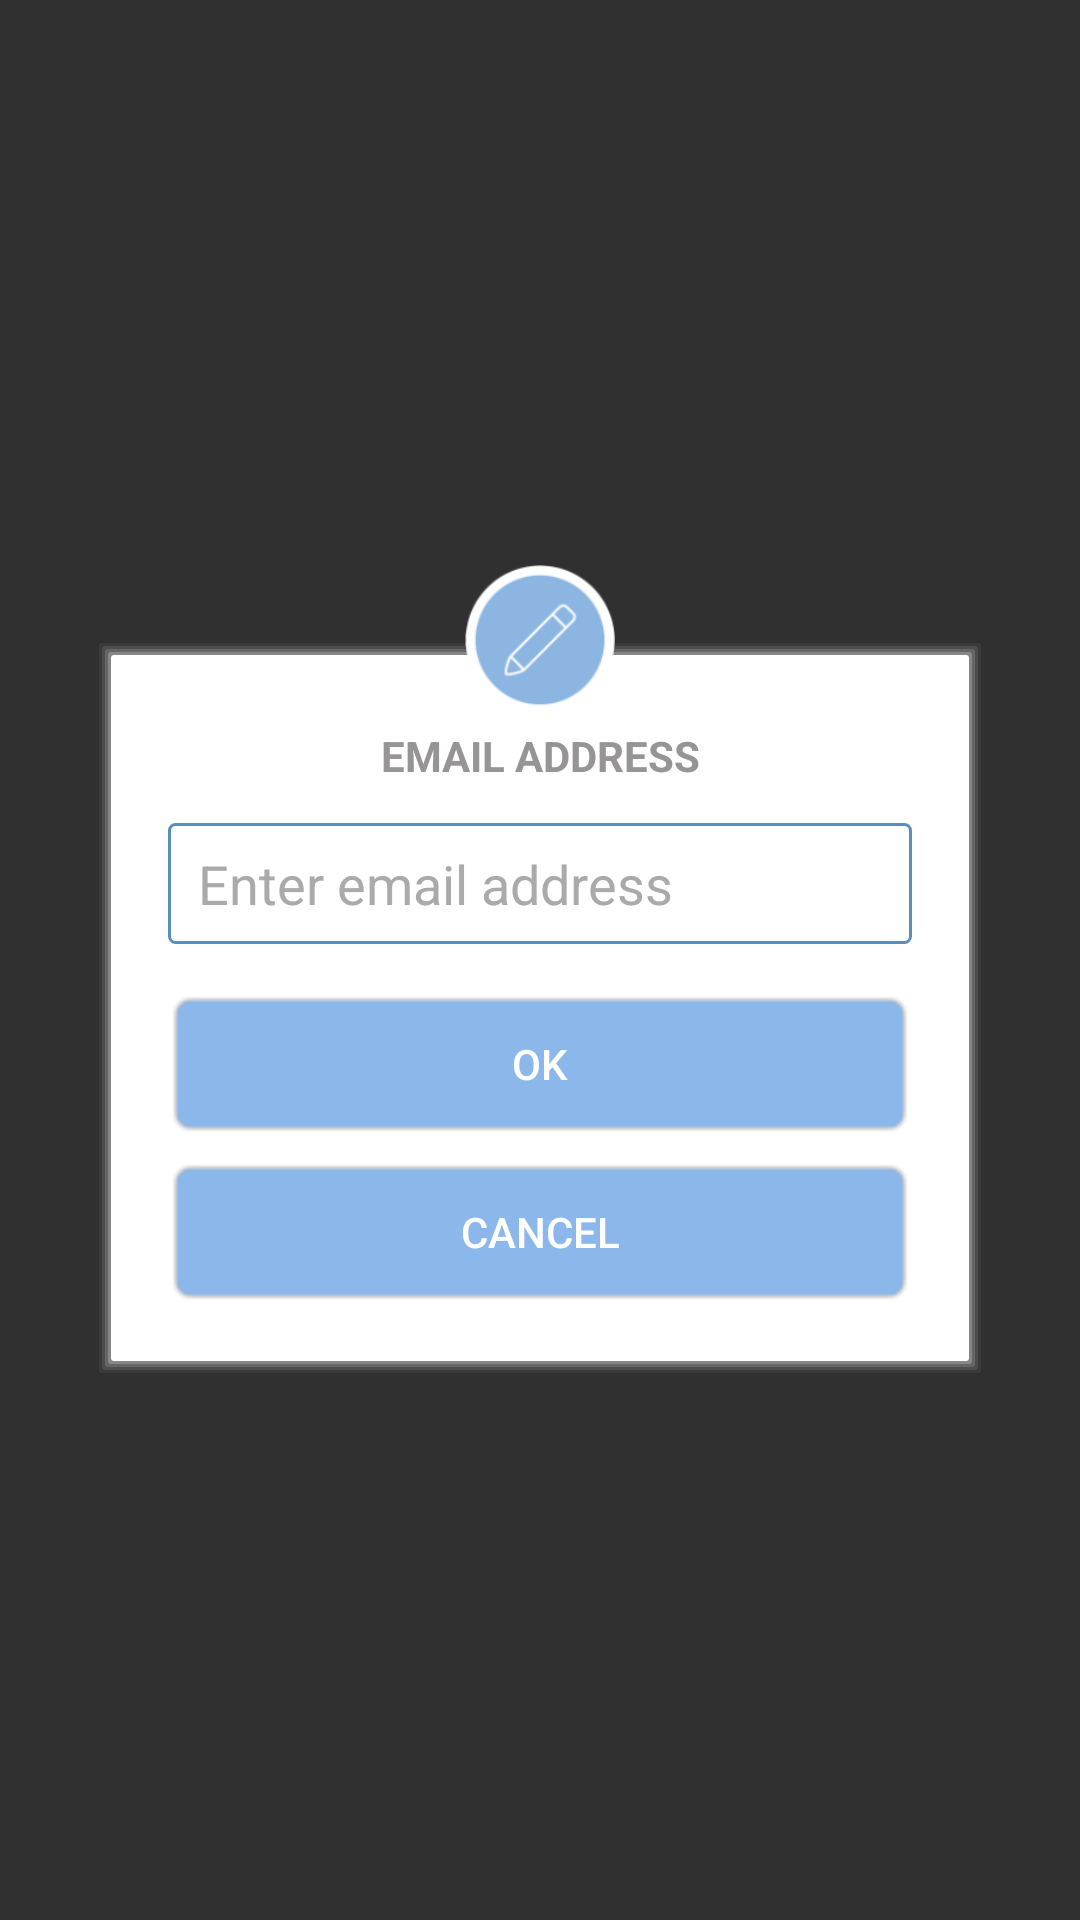

Screen size 1080w x 1920h. Icon name, then its center in pixels as point (x, y):
edit circle: point (540, 640)
